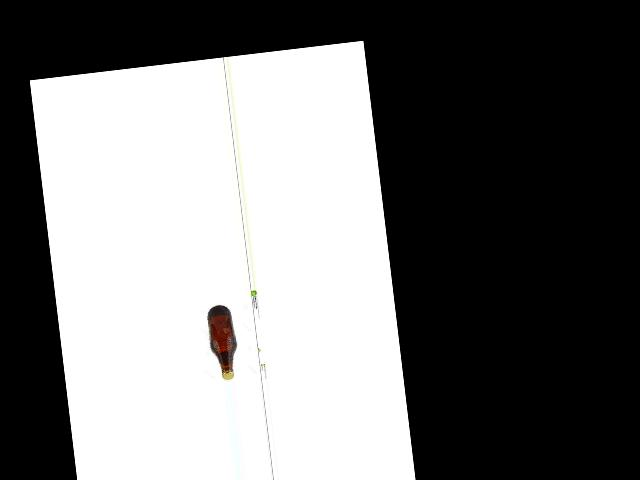beer: (206, 304, 241, 381)
